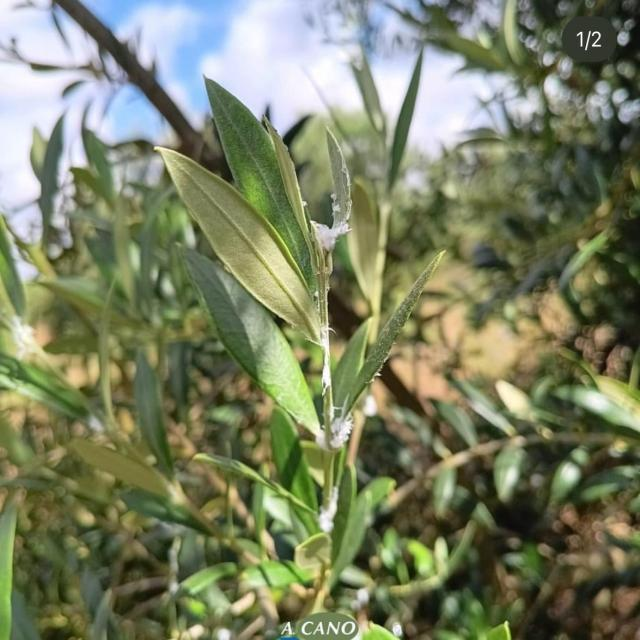Psyllid: (309, 126, 352, 302), (316, 393, 353, 449)
